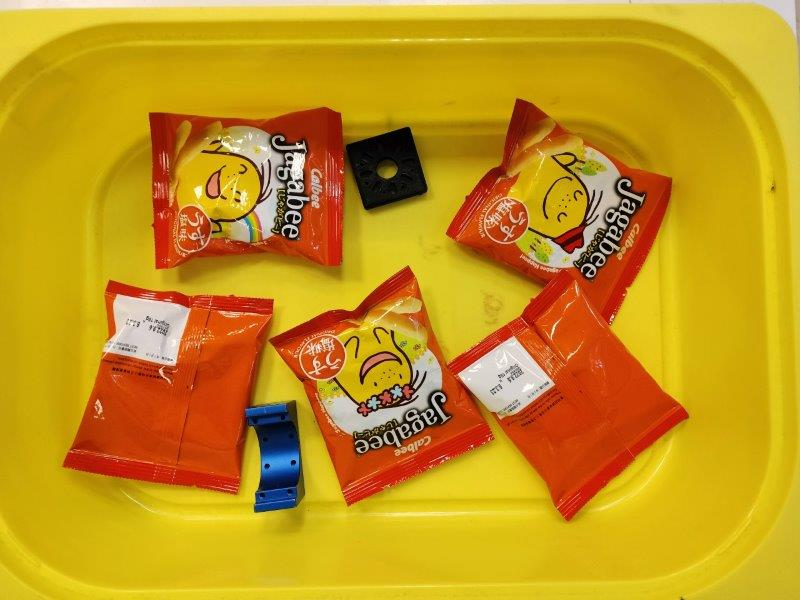Jagabee: (446, 270, 692, 521), (269, 265, 496, 505), (448, 100, 672, 328), (62, 280, 274, 493), (147, 108, 347, 271)
